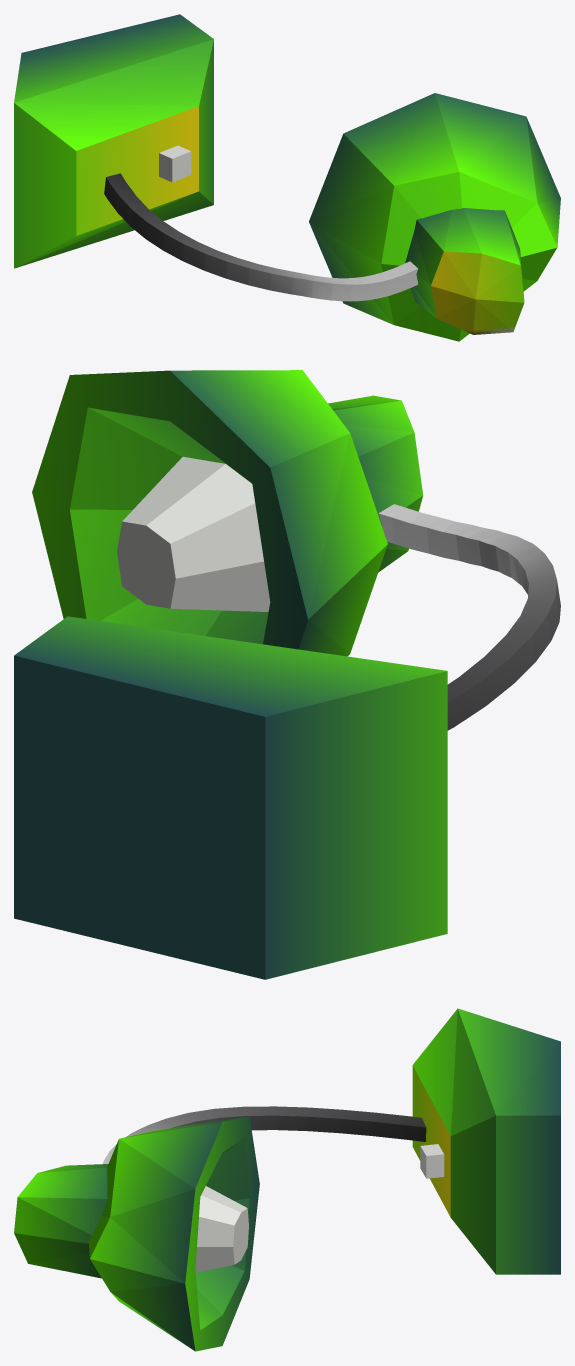
The model's file is lamp.fbx.
3 views of the same model, one above another, from view 1: azimuth 30°, elevation 25°; view 2: azimuth 150°, elevation 25°; view 3: azimuth 270°, elevation 25° (orthographic). The views are drawn at different scales.
Parts seen in each view (by area): view 1: Lamp; view 2: Lamp; view 3: Lamp.
Boxes of the visible parts, bbox=[...] form: Lamp: bbox=[14, 14, 560, 341]; Lamp: bbox=[14, 370, 560, 979]; Lamp: bbox=[14, 1008, 560, 1351].
Bounding box in the file's own units: 96.51 × 53.33 × 118.
